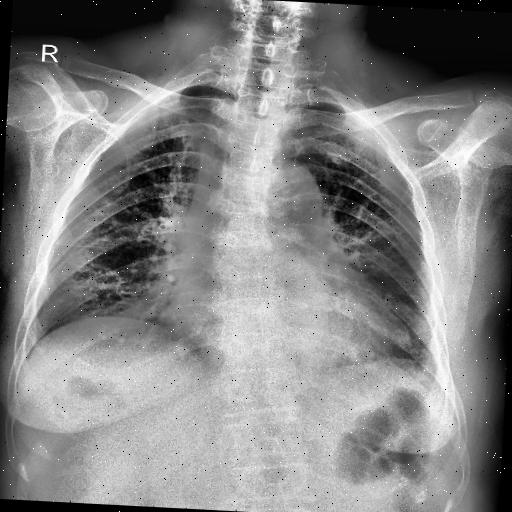0- Aortic enlargement: (246, 156, 330, 232), (246, 163, 326, 225), (260, 160, 326, 223)
3- Cardiomegaly: (164, 268, 420, 366), (156, 286, 401, 388), (164, 274, 412, 352)
